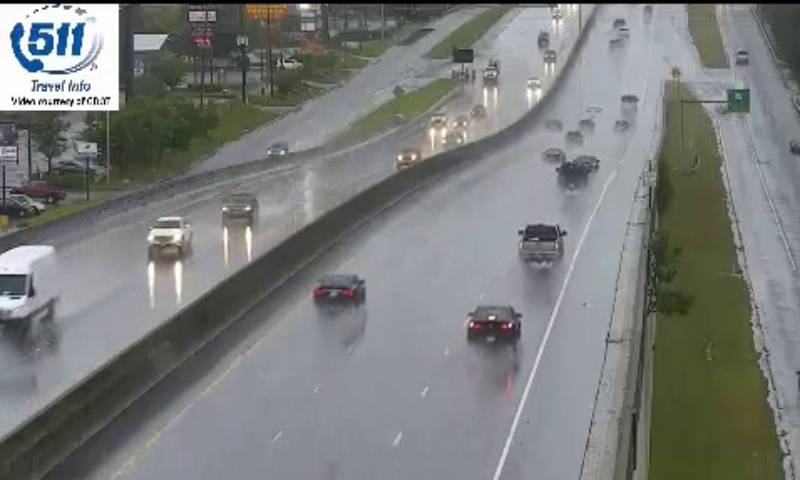car: (466, 306, 518, 344), (312, 272, 364, 308), (520, 224, 564, 262)
